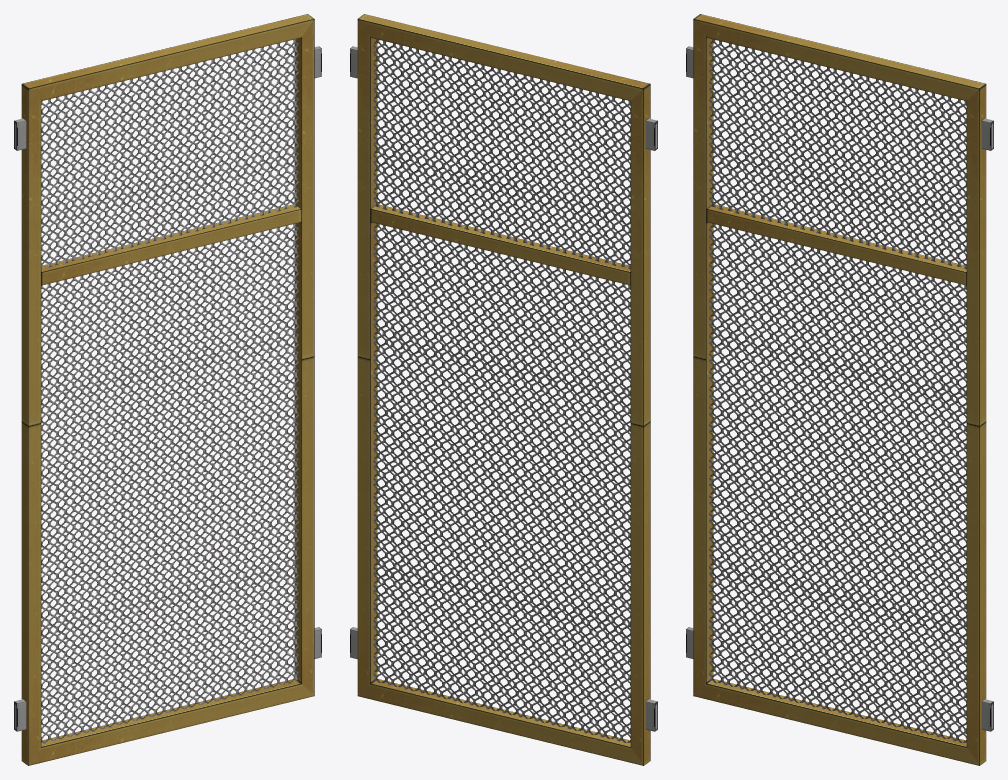
File: Fence_Vert_Grid_01.FBX
3 views of the same model, side by side, from view 1: azimuth 30°, elevation 25°; view 2: azimuth 150°, elevation 25°; view 3: azimuth 330°, elevation 25° (orthographic).
Visible parts, largest first — view 1: Grid, Fence_Vert_Grid_01; view 2: Grid, Fence_Vert_Grid_01; view 3: Grid, Fence_Vert_Grid_01.
Part boxes in pixels (x1,y1,x2,y2): Grid: (41, 39, 298, 743); Fence_Vert_Grid_01: (14, 14, 321, 765); Grid: (373, 39, 630, 743); Fence_Vert_Grid_01: (350, 14, 657, 765); Grid: (709, 39, 966, 743); Fence_Vert_Grid_01: (686, 14, 993, 765).
Bounding box in the file's own units: 65.84 × 140 × 2.54.
